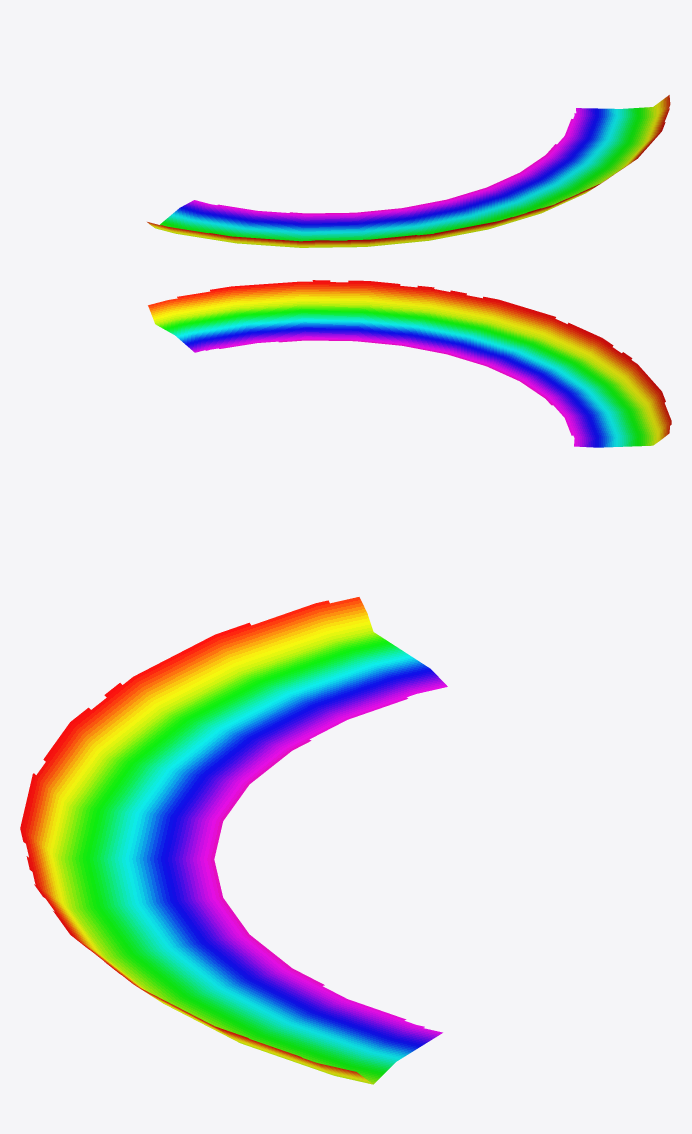
The picture shows the model from 3 angles, top to bottom: view 1: azimuth 30°, elevation 25°; view 2: azimuth 150°, elevation 25°; view 3: azimuth 270°, elevation 25°; orthographic projection. The views are drawn at different scales.
Visible parts, largest first — view 1: rainbow.model_base-Mesh[0]; view 2: rainbow.model_base-Mesh[0]; view 3: rainbow.model_base-Mesh[0].
Boxes of the visible parts, bbox=[...] form: rainbow.model_base-Mesh[0]: bbox=[147, 95, 670, 247]; rainbow.model_base-Mesh[0]: bbox=[148, 280, 671, 447]; rainbow.model_base-Mesh[0]: bbox=[20, 597, 447, 1084].
Bounding box in the file's own units: 2 × 0.0595 × 1.
Materials: 1 (1 with a texture image).
